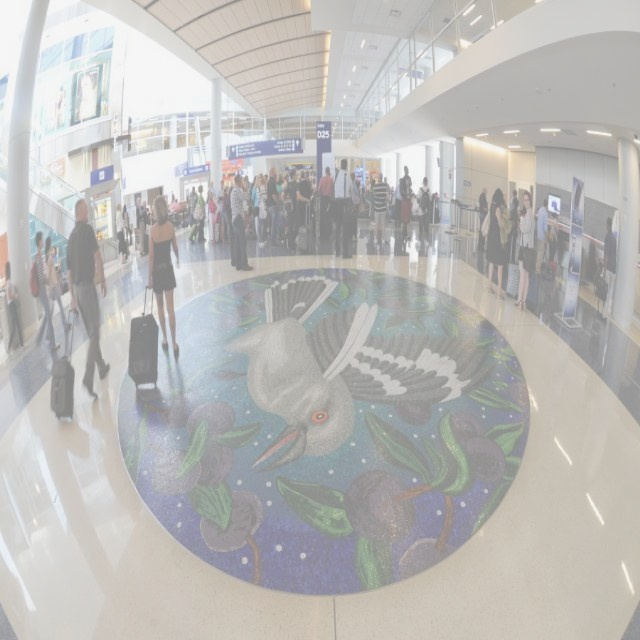pessoa: (66, 196, 110, 398), (148, 192, 182, 364), (34, 229, 62, 355), (41, 235, 72, 342), (480, 185, 506, 304), (514, 188, 536, 312), (593, 214, 617, 325), (280, 168, 310, 252), (230, 172, 254, 272), (4, 259, 28, 358), (332, 158, 354, 260), (317, 164, 334, 244), (533, 196, 549, 281), (414, 174, 432, 248), (371, 170, 388, 246), (398, 164, 414, 241), (266, 165, 279, 249), (296, 168, 314, 228), (255, 172, 269, 248), (348, 170, 362, 242), (476, 184, 490, 256), (74, 74, 98, 115), (250, 172, 264, 242), (507, 196, 521, 265), (49, 81, 68, 126), (192, 183, 206, 244), (213, 178, 226, 243), (115, 200, 128, 264), (220, 184, 233, 246), (135, 195, 147, 256), (546, 211, 560, 263), (357, 168, 372, 211), (140, 198, 151, 251), (230, 183, 237, 266), (392, 182, 404, 230), (208, 190, 218, 243), (240, 172, 269, 190), (122, 202, 134, 244), (162, 188, 179, 216), (382, 176, 392, 223), (188, 186, 198, 228), (368, 178, 377, 222), (304, 164, 318, 192), (276, 168, 288, 200), (51, 244, 62, 276), (508, 188, 520, 214), (382, 174, 394, 196), (432, 190, 439, 220), (520, 202, 534, 216), (207, 180, 216, 196), (332, 166, 339, 180), (550, 210, 560, 219), (296, 164, 301, 181), (534, 205, 540, 212)
